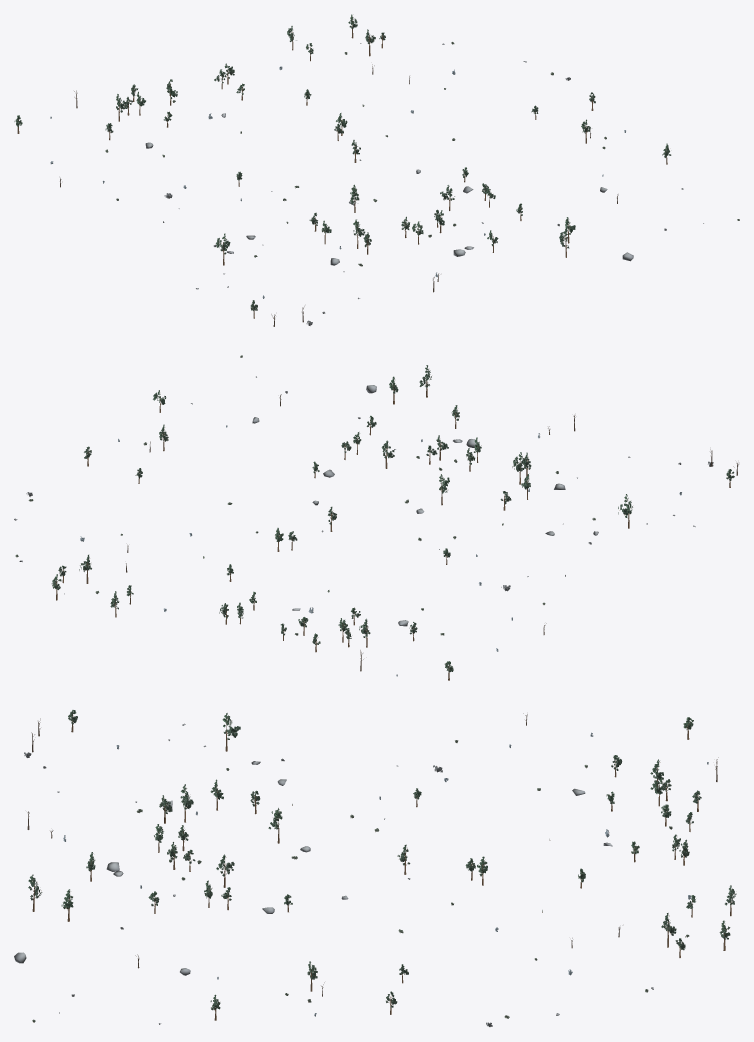
Rendered from frost_land_scatter_c14_10.glb.
The picture shows the model from 3 angles, top to bottom: view 1: azimuth 30°, elevation 25°; view 2: azimuth 150°, elevation 25°; view 3: azimuth 270°, elevation 25°; orthographic projection. The views are drawn at different scales.
Parts seen in each view (by area): view 1: frost_land_scatter_c14_10; view 2: frost_land_scatter_c14_10; view 3: frost_land_scatter_c14_10.
Part boxes in pixels (<box>): frost_land_scatter_c14_10: <box>14,14,739,326</box>; frost_land_scatter_c14_10: <box>14,355,738,680</box>; frost_land_scatter_c14_10: <box>14,710,736,1026</box>.
Size of the model in its own units: 255 by 22.02 by 260.
